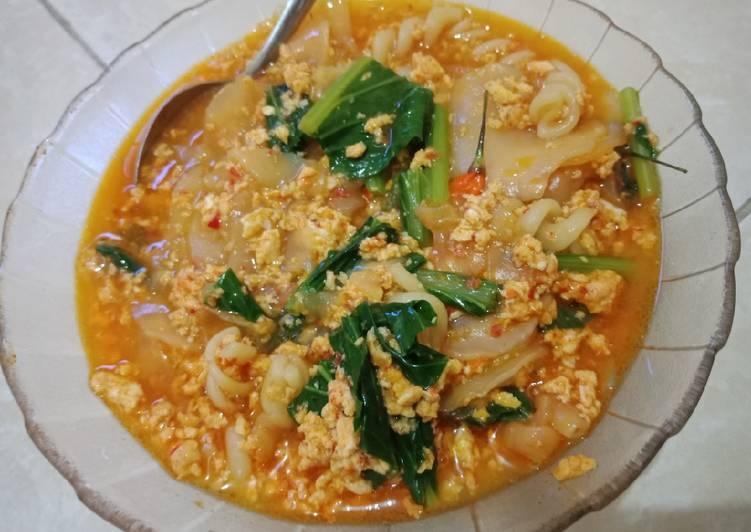seblak: (75, 8, 664, 524)
